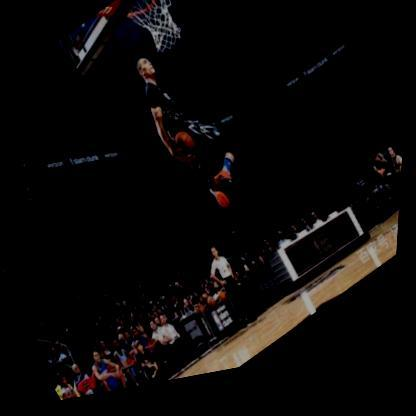basketball: (114, 0, 193, 70)
